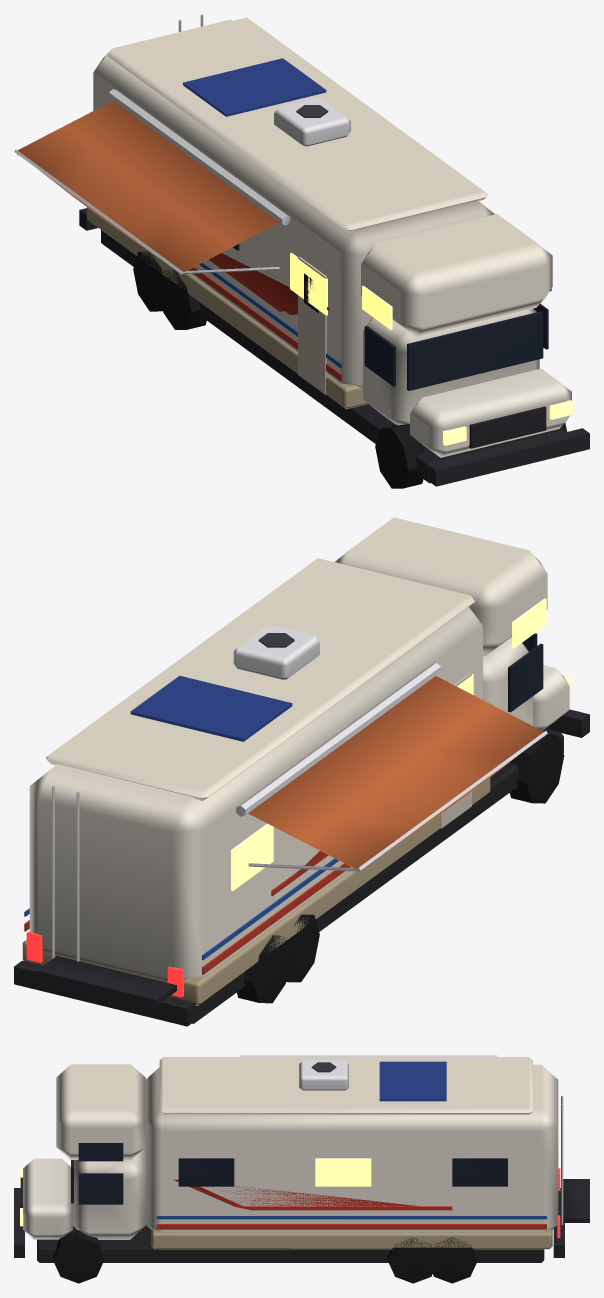
The picture shows the model from 3 angles, top to bottom: view 1: azimuth 30°, elevation 25°; view 2: azimuth 150°, elevation 25°; view 3: azimuth 270°, elevation 25°; orthographic projection. The views are drawn at different scales.
Parts seen in each view (by area): view 1: roofcap, awning, body.001, bunk, hood, windscreen, cab, chassis, solar, skirt, bumper_1, awning_case (+13 smaller); view 2: body.001, roofcap, awning, bunk, skirt, solar, chassis, rack, bumper_0, awning_case, ac, tyre_0_0 (+12 smaller); view 3: body.001, roofcap, bunk, skirt, chassis, cab, hood, swoosh_1, solar, stripe1_1, tyre_0_1, tyre_1_1 (+13 smaller).
Boxes of the visible parts, x1,y1,x2,y2 form: roofcap: [108, 17, 487, 232]; awning: [18, 100, 279, 271]; body.001: [93, 19, 494, 387]; bunk: [361, 214, 552, 336]; hood: [410, 368, 571, 457]; windscreen: [407, 311, 543, 390]; cab: [363, 308, 539, 425]; chassis: [101, 230, 566, 483]; solar: [183, 58, 326, 116]; skirt: [87, 207, 368, 409]; bumper_1: [429, 428, 589, 486]; awning_case: [109, 89, 290, 225]; body.001: [29, 607, 482, 981]; roofcap: [46, 558, 474, 800]; awning: [248, 676, 543, 869]; bunk: [334, 517, 547, 656]; skirt: [22, 777, 490, 1005]; solar: [130, 675, 292, 741]; chassis: [192, 728, 563, 1023]; rack: [36, 956, 176, 1005]; bumper_0: [14, 960, 195, 1026]; awning_case: [236, 662, 440, 816]; ac: [233, 624, 319, 679]; tyre_0_0: [509, 733, 564, 803]; body.001: [145, 1064, 558, 1232]; roofcap: [159, 1057, 532, 1114]; bunk: [56, 1064, 145, 1159]; skirt: [151, 1229, 552, 1249]; chassis: [37, 1225, 544, 1262]; cab: [73, 1147, 145, 1239]; hood: [23, 1158, 72, 1239]; swoosh_1: [173, 1179, 452, 1210]; solar: [379, 1061, 446, 1101]; stripe1_1: [156, 1224, 546, 1229]; tyre_0_1: [53, 1230, 104, 1283]; tyre_1_1: [426, 1237, 477, 1283].
Size of the model in its own units: 4.26 by 3.7 by 10.33.
